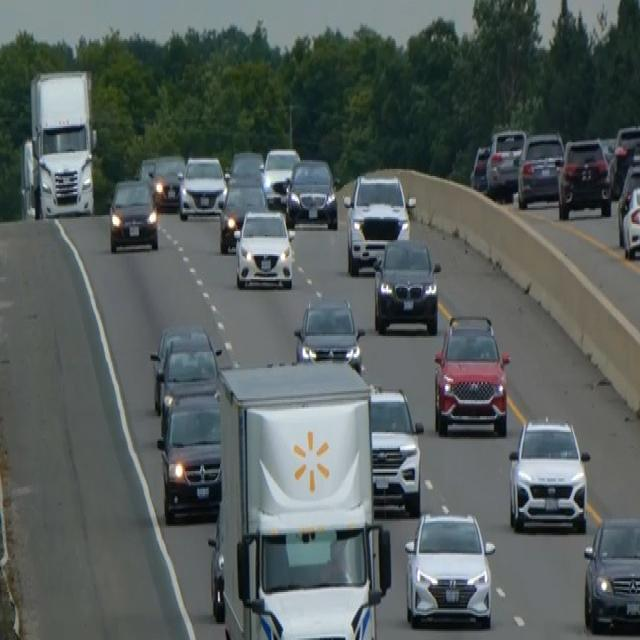car: (403, 508, 495, 630), (507, 414, 590, 534), (432, 311, 510, 437), (156, 388, 222, 522), (368, 384, 424, 516), (343, 170, 413, 274), (582, 514, 639, 633), (372, 236, 440, 334), (149, 322, 220, 412), (293, 295, 364, 372), (234, 208, 294, 290), (556, 137, 612, 219), (285, 156, 338, 230), (108, 176, 159, 252), (217, 175, 267, 252), (516, 130, 564, 208), (178, 153, 225, 219), (485, 126, 526, 198), (261, 146, 300, 206), (617, 158, 639, 258), (610, 122, 639, 194), (150, 153, 185, 208), (225, 148, 264, 186), (469, 142, 491, 190), (137, 155, 157, 183)
lorry: (207, 358, 392, 638), (19, 66, 98, 220)
